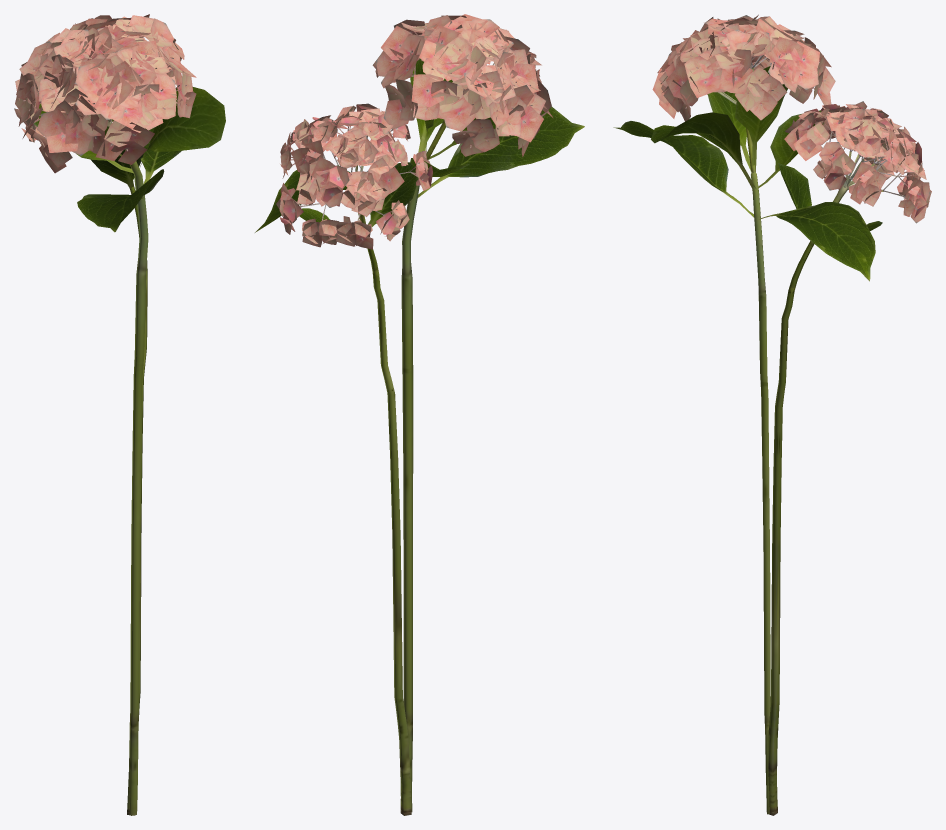
Rendered from Hydrangea_bush_long_peach.glb.
3 views of the same model, side by side, from view 1: azimuth 30°, elevation 25°; view 2: azimuth 150°, elevation 25°; view 3: azimuth 270°, elevation 25° (orthographic). The views are drawn at different scales.
Visible parts, largest first — view 1: BUSHEKK; view 2: BUSHEKK; view 3: BUSHEKK.
Boxes of the visible parts, x1,y1,x2,y2 form: BUSHEKK: [14, 14, 225, 815]; BUSHEKK: [255, 14, 584, 815]; BUSHEKK: [613, 14, 931, 815].
Bounding box in the file's own units: 1.48 × 5.02 × 1.87.
1 material, 1 textured.
